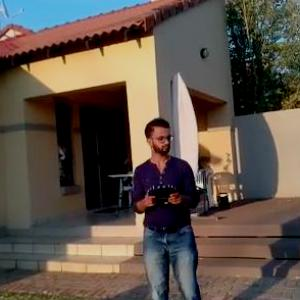follow: (131, 112, 203, 299)
